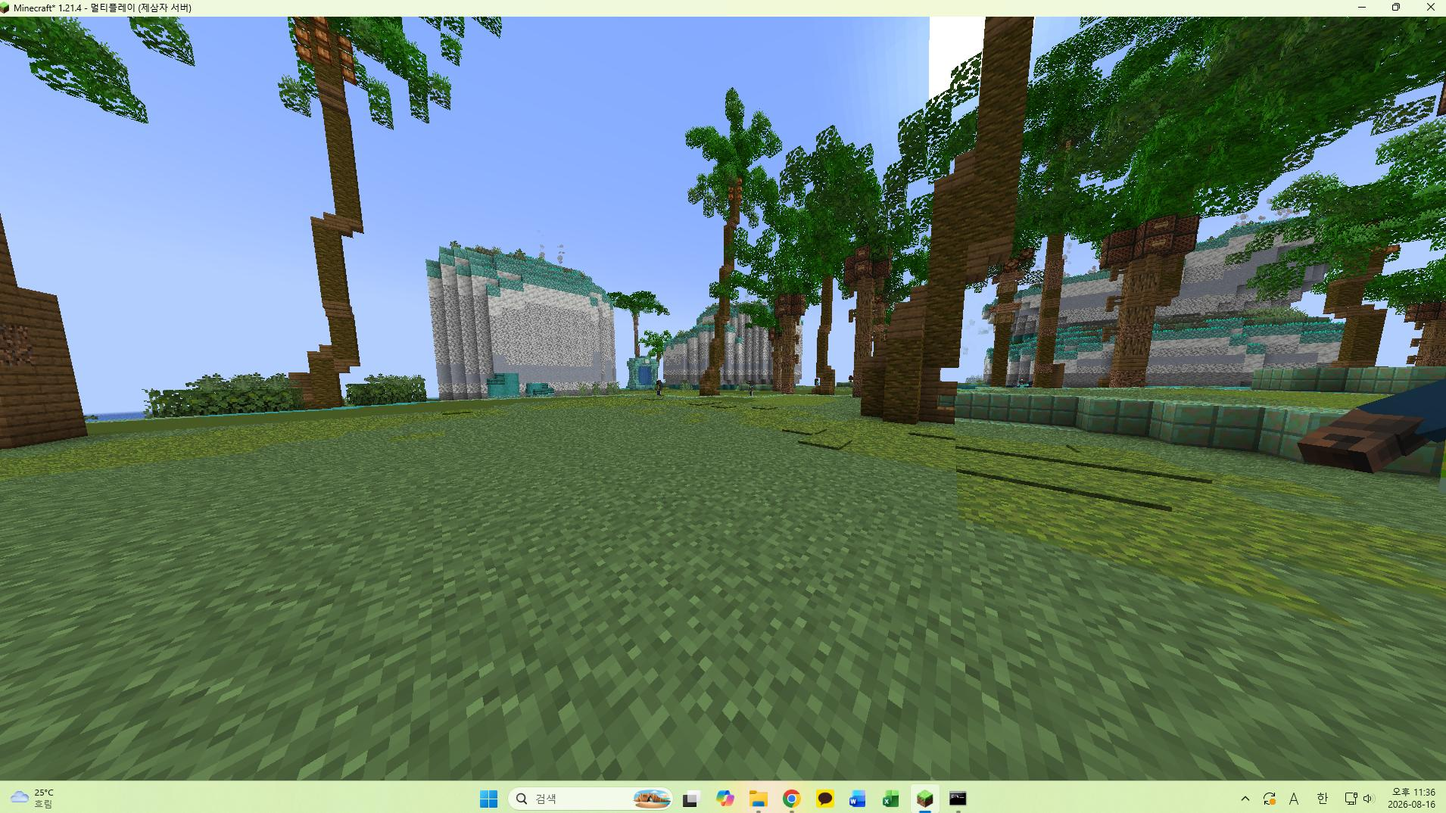Guardian: (655, 379, 662, 397), (746, 381, 753, 397)
